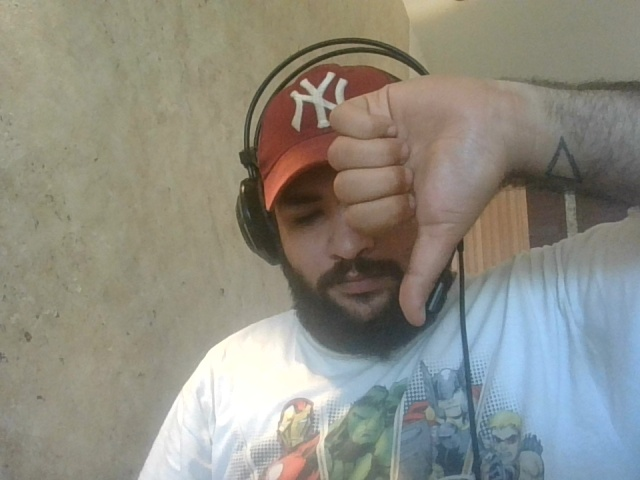no: (324, 80, 530, 328)
